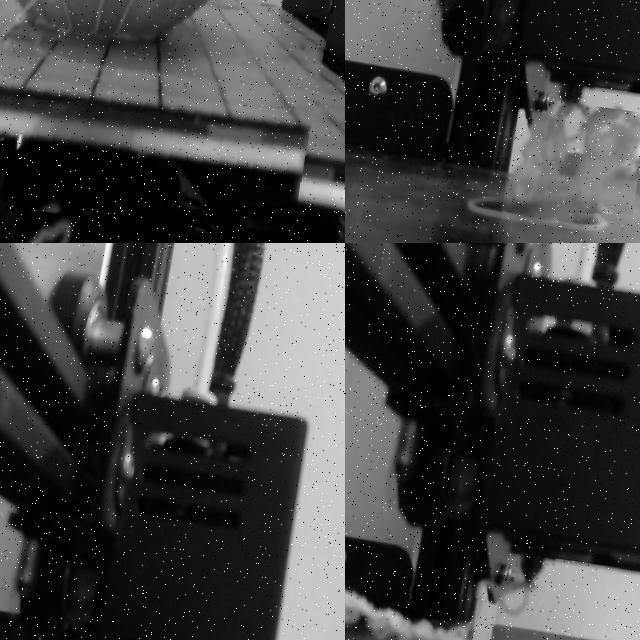spaghetti: (0, 0, 345, 243), (508, 102, 640, 215), (345, 592, 470, 640)
